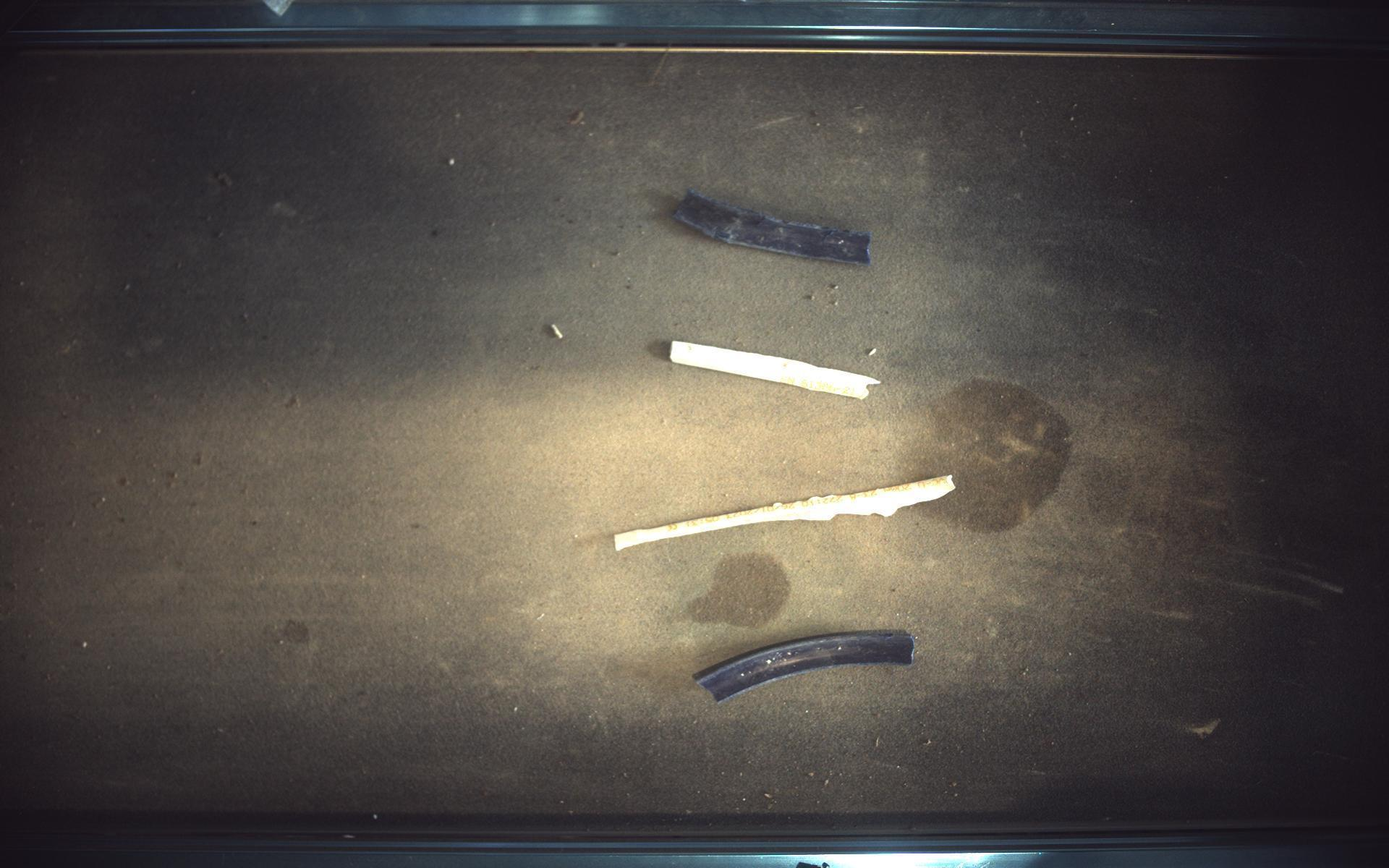plastic: (616, 475, 957, 550), (695, 632, 916, 703), (675, 188, 873, 264), (671, 340, 882, 399)
